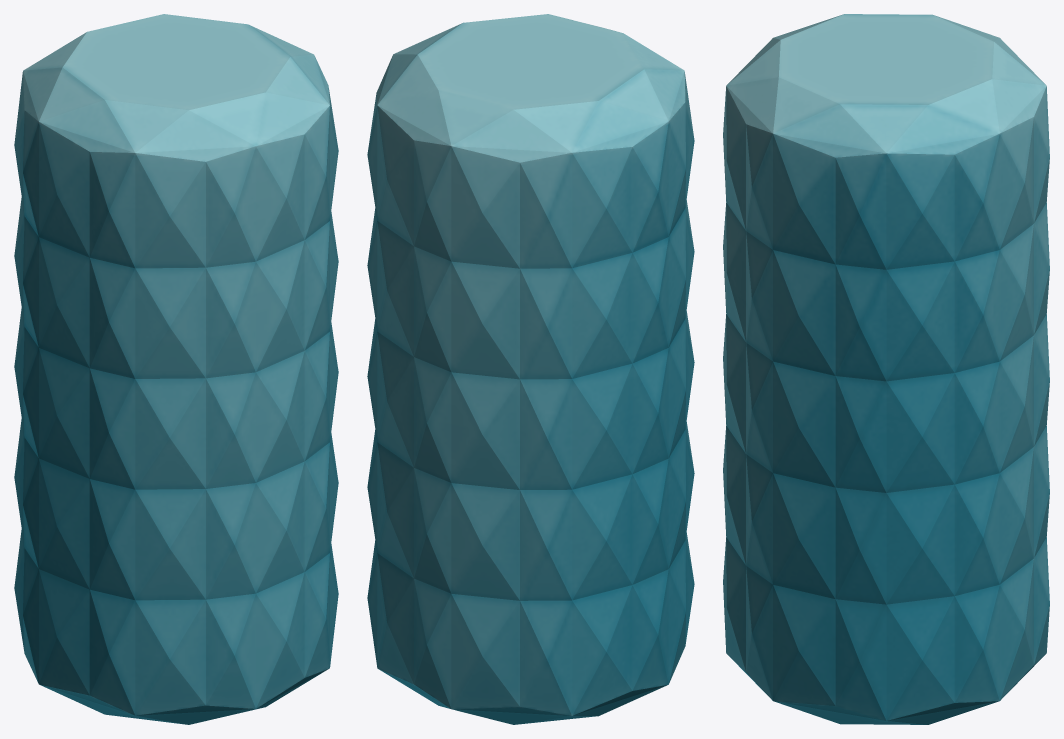
Rendered from Diamon.fbx.
The picture shows the model from 3 angles, left to right: view 1: azimuth 30°, elevation 25°; view 2: azimuth 150°, elevation 25°; view 3: azimuth 270°, elevation 25°; orthographic projection.
Visible parts, largest first — view 1: Diamon; view 2: Diamon; view 3: Diamon.
Boxes of the visible parts, left/top/right/bottom form: Diamon: left=14, top=14, right=338, bottom=724; Diamon: left=367, top=14, right=694, bottom=724; Diamon: left=723, top=14, right=1049, bottom=724.
Size of the model in its own units: 204 by 427 by 204.
Materials: 1 (1 with a texture image).
